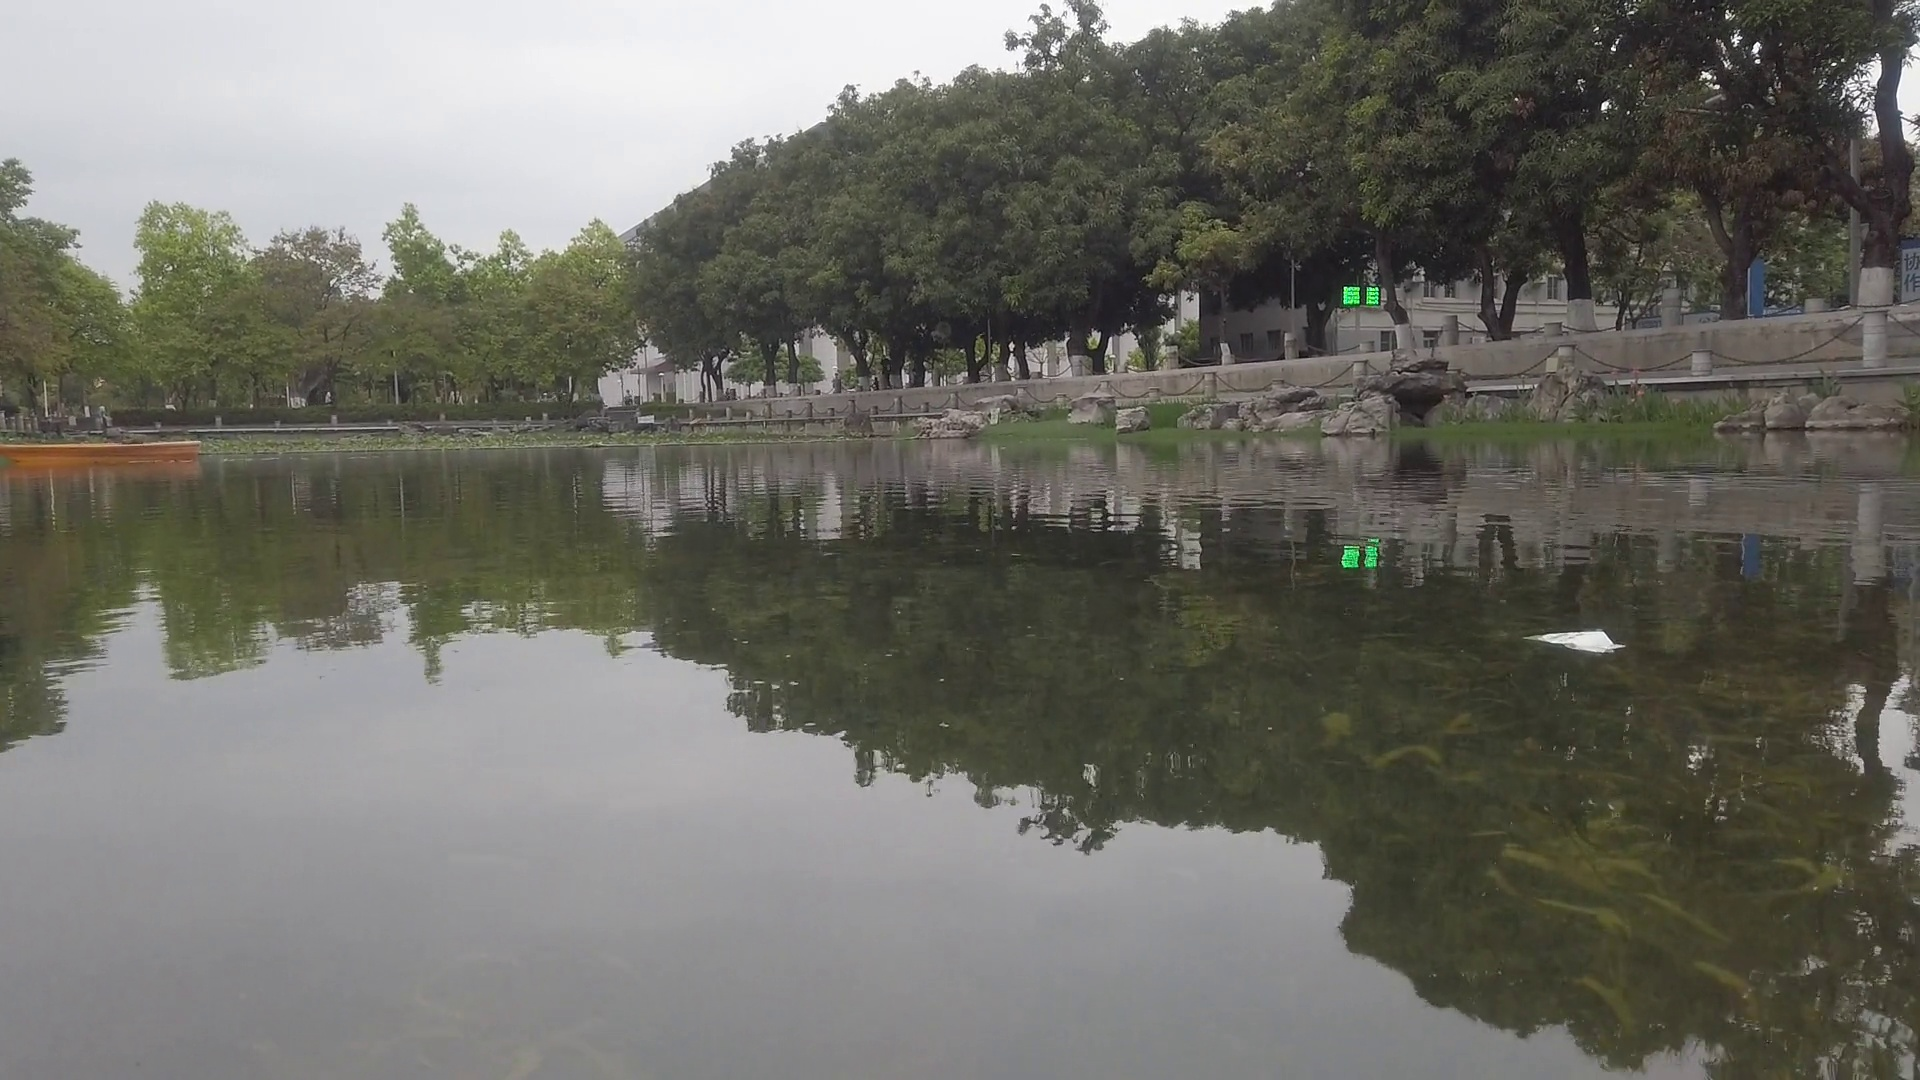paper: (1524, 622, 1627, 657)
